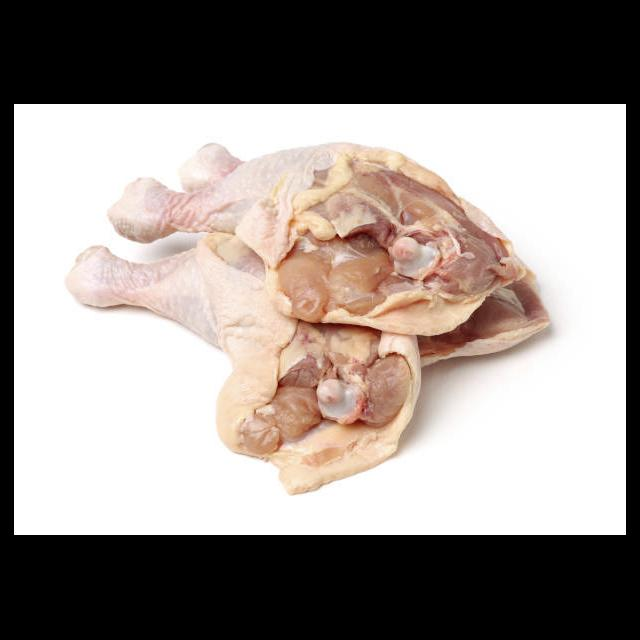chicken: (62, 223, 422, 500), (103, 140, 528, 342)
